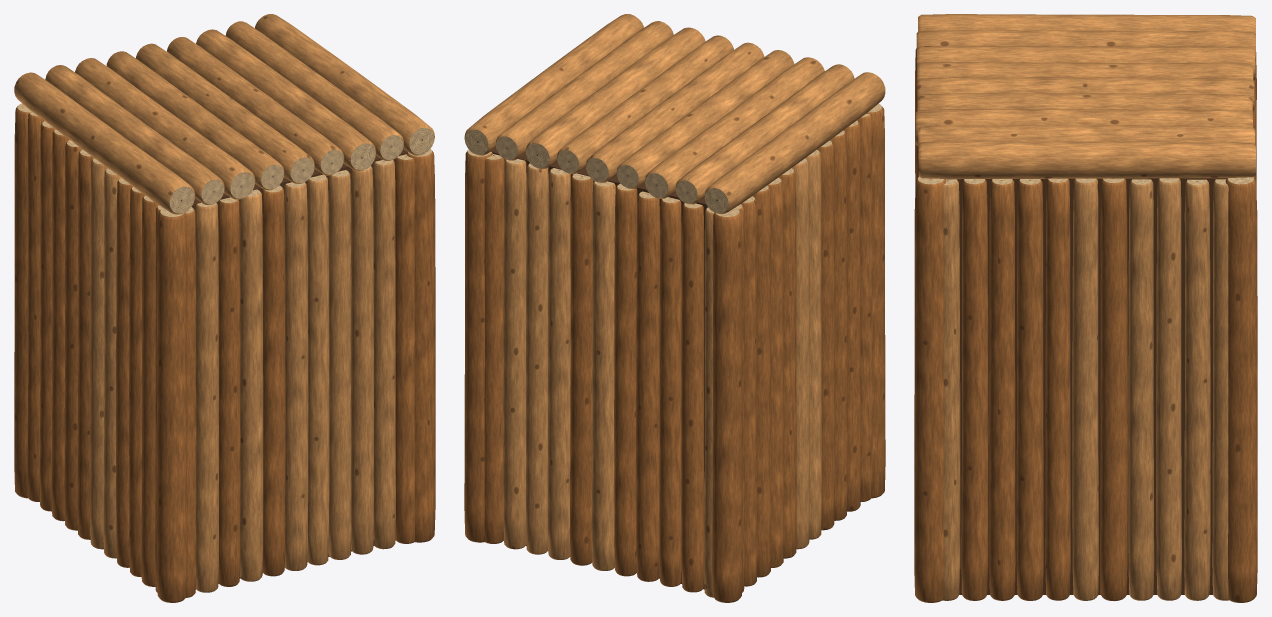
The model's file is SM_LogBlock_NoWalls.fbx.
3 renders of one model, left to right at view 1: azimuth 30°, elevation 25°; view 2: azimuth 150°, elevation 25°; view 3: azimuth 270°, elevation 25°, orthographic. The views are drawn at different scales.
Parts seen in each view (by area): view 1: SM_LogBlock_NoWalls; view 2: SM_LogBlock_NoWalls; view 3: SM_LogBlock_NoWalls.
Boxes of the visible parts, x1,y1,x2,y2 form: SM_LogBlock_NoWalls: [14, 14, 435, 602]; SM_LogBlock_NoWalls: [464, 14, 885, 602]; SM_LogBlock_NoWalls: [914, 14, 1257, 602].
Bounding box in the file's own units: 2.07 × 3 × 2.07.
